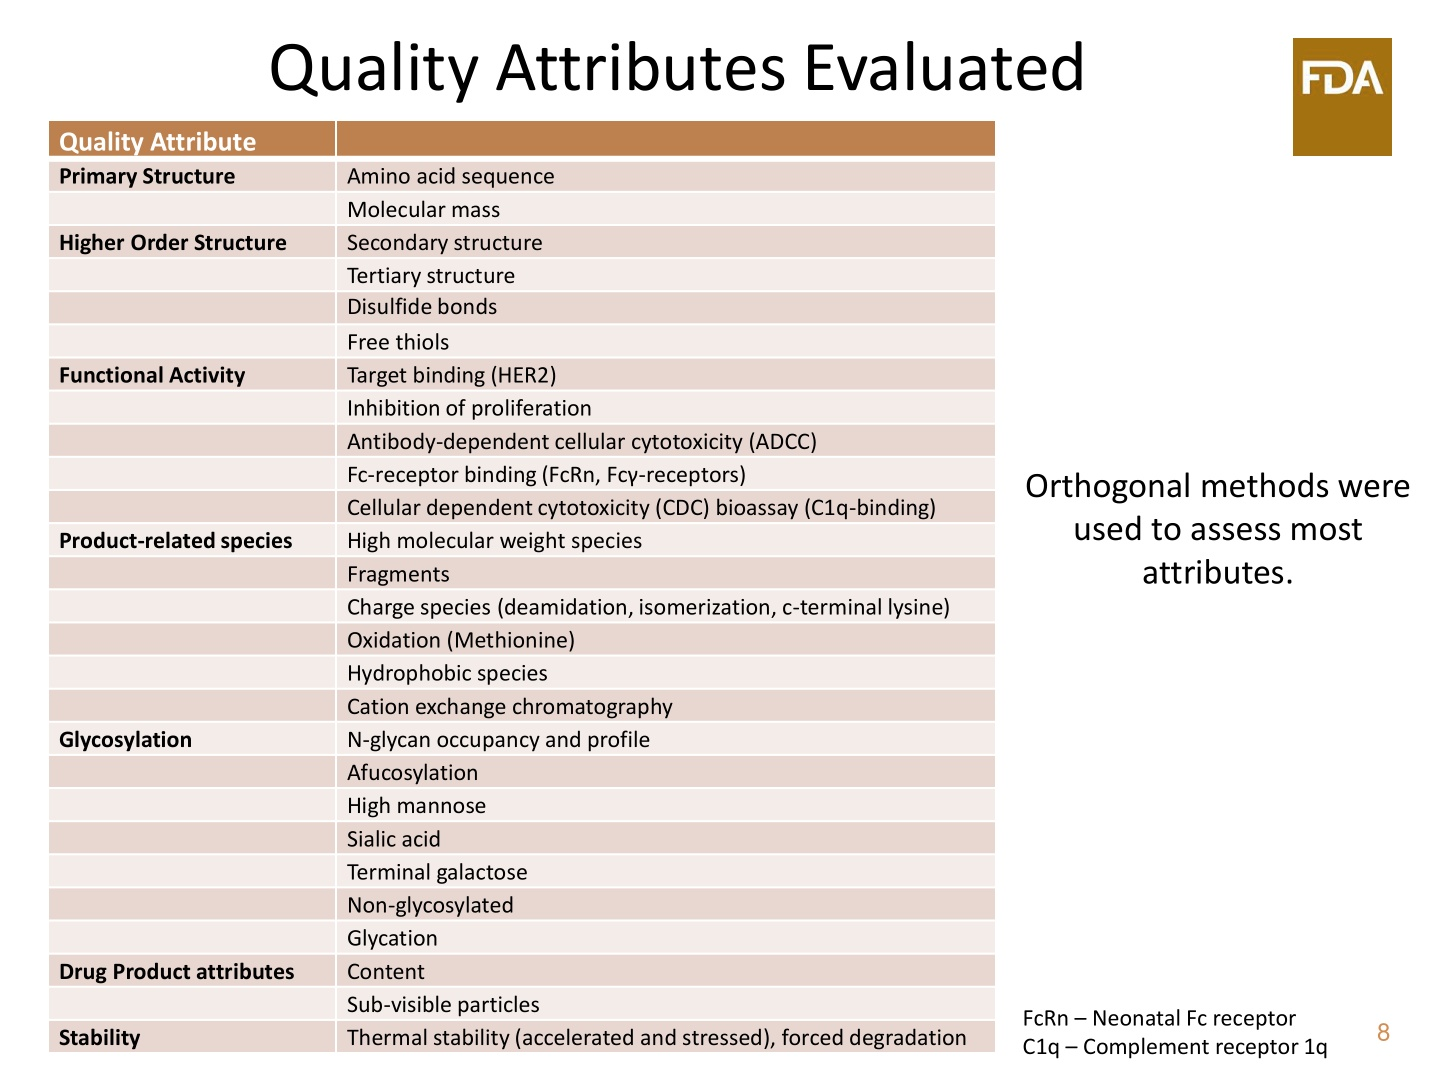full_lined: (48, 119, 996, 1054)
